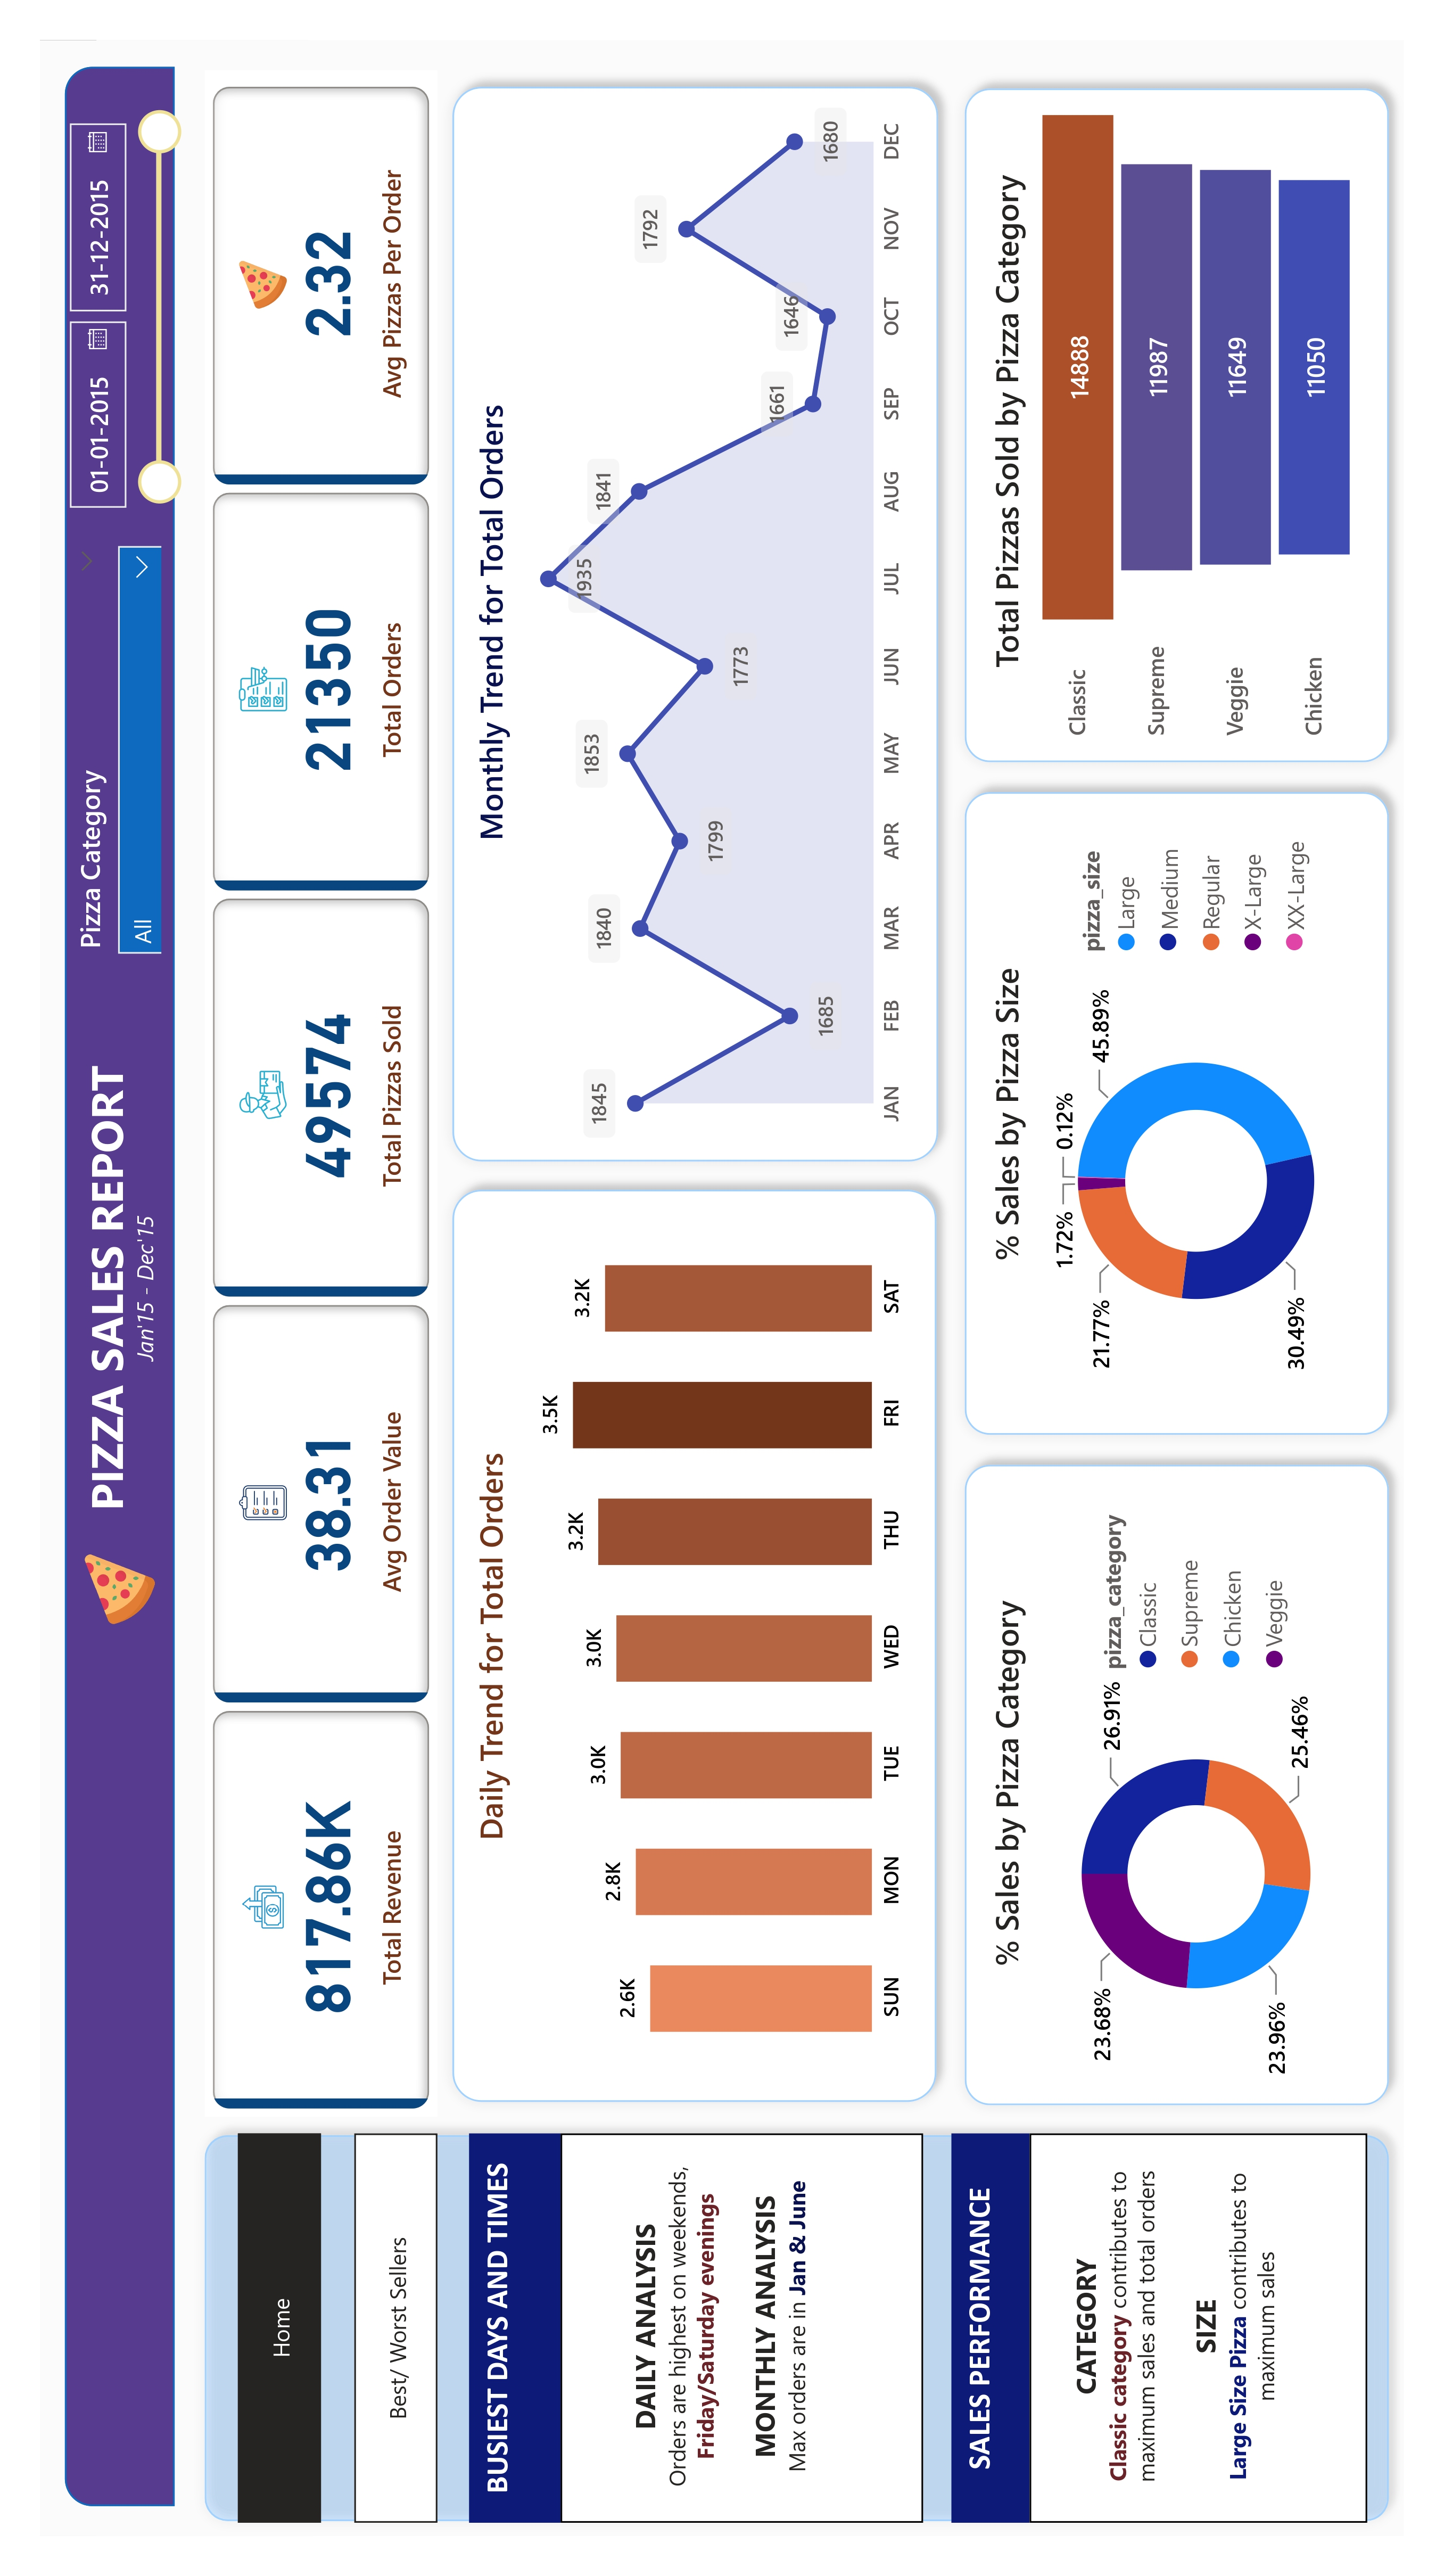

Layout of this report page (visuals, bound fields, positions):
{"tool":"powerbi","page":{"name":"Home","canvas":[1500,820],"ordinal":0},"visuals":[{"type":"cardVisual","fields":{"Data":["pizza_sales.Total Revenue","pizza_sales.Avg Order Value","pizza_sales.Total Pizzas Sold","pizza_sales.Total Orders","pizza_sales.Avg Pizzas Per Order"]},"box":[252.2,98.5,1229.9,140.3],"z":0},{"type":"shape","box":[17.9,14.9,1465.7,65.7],"z":1000},{"type":"textbox","box":[0,16.4,1500,52.2],"z":2000},{"type":"textbox","box":[0,49.3,1500,40.3],"z":3000},{"type":"image","box":[526.9,20.9,83.6,53.7],"z":4000},{"type":"shape","box":[252.2,238.8,565.7,309],"z":5000},{"type":"columnChart","title":"Daily Trend for Total Orders","fields":{"Category":["pizza_sales.Order Day"],"Y":["pizza_sales.Total Orders"]},"box":[270.1,257.6,529,272.9],"z":6000},{"type":"shape","box":[817.2,239.5,664.1,309.1],"z":7000},{"type":"areaChart","title":"Monthly Trend for Total Orders","fields":{"Category":["pizza_sales.Order Month"],"Y":["pizza_sales.Total Orders"]},"box":[835.3,257.6,629.3,272.9],"z":8000},{"type":"shape","box":[250,546.7,403.3,273.3],"z":9000},{"type":"shape","box":[1056.7,546.7,423.3,273.3],"z":10000},{"type":"shape","box":[653.3,546.7,403.3,273.3],"z":11000},{"type":"donutChart","title":"% Sales by Pizza Category","fields":{"Category":["pizza_sales.pizza_category"],"Y":["pizza_sales.Total Revenue"]},"box":[270,568.3,365,228.3],"z":12000},{"type":"donutChart","title":"% Sales by Pizza Size","fields":{"Y":["pizza_sales.Total Revenue"],"Category":["pizza_sales.pizza_size"]},"box":[671.7,568.3,365,228.3],"z":13000},{"type":"funnel","title":"Total Pizzas Sold by Pizza Category","fields":{"Y":["pizza_sales.Total Pizzas Sold"],"Category":["pizza_sales.pizza_category"]},"box":[1076.7,568.3,388.3,228.3],"z":14000},{"type":"shape","box":[0,90,250,730],"z":15000},{"type":"textbox","box":[7.8,257.8,234.4,54.7],"z":16000},{"type":"textbox","box":[7.8,312.5,234.4,218.8],"z":17000},{"type":"textbox","box":[7.8,548.4,234.4,46.9],"z":18000},{"type":"textbox","box":[7.8,595.3,234.4,203.1],"z":19000},{"type":"slicer","fields":{"Values":["pizza_sales.pizza_category"]},"box":[940.6,14.1,265.6,59.4],"z":20000},{"type":"slicer","fields":{"Values":["pizza_sales.order_date"]},"box":[1206.2,7.8,259.4,84.4],"z":21000},{"type":"pageNavigator","box":[7.8,118.8,234.4,50],"z":21001},{"type":"pageNavigator","box":[7.8,189.1,234.4,50],"z":21002}]}

Visuals, with their boxes on the page's 1500x820 design canvas (x1, y1, x2, y2). These are canvas units, not pixel positions in the 1444x2576 screenshot, which may show the page scaled, cropped or inside an application window:
cardVisual - pizza_sales.Total Revenue x pizza_sales.Avg Order Value: Rect(252, 98, 1482, 239)
shape: Rect(18, 15, 1484, 81)
textbox: Rect(0, 16, 1500, 69)
textbox: Rect(0, 49, 1500, 90)
image: Rect(527, 21, 610, 75)
shape: Rect(252, 239, 818, 548)
"Daily Trend for Total Orders" columnChart: Rect(270, 258, 799, 530)
shape: Rect(817, 240, 1481, 549)
"Monthly Trend for Total Orders" areaChart: Rect(835, 258, 1465, 530)
shape: Rect(250, 547, 653, 820)
shape: Rect(1057, 547, 1480, 820)
shape: Rect(653, 547, 1057, 820)
"% Sales by Pizza Category" donutChart: Rect(270, 568, 635, 797)
"% Sales by Pizza Size" donutChart: Rect(672, 568, 1037, 797)
"Total Pizzas Sold by Pizza Category" funnel: Rect(1077, 568, 1465, 797)
shape: Rect(0, 90, 250, 820)
textbox: Rect(8, 258, 242, 312)
textbox: Rect(8, 312, 242, 531)
textbox: Rect(8, 548, 242, 595)
textbox: Rect(8, 595, 242, 798)
slicer - pizza_sales.pizza_category: Rect(941, 14, 1206, 74)
slicer - pizza_sales.order_date: Rect(1206, 8, 1466, 92)
pageNavigator: Rect(8, 119, 242, 169)
pageNavigator: Rect(8, 189, 242, 239)
